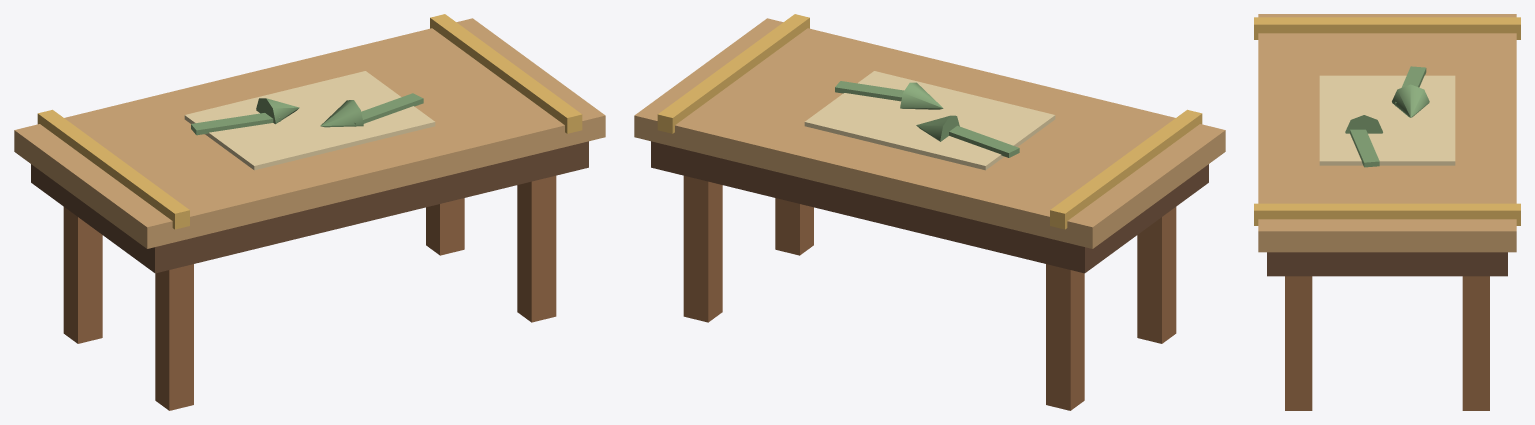
File: exchange-table.glb
3 renders of one model, left to right at view 1: azimuth 30°, elevation 25°; view 2: azimuth 150°, elevation 25°; view 3: azimuth 270°, elevation 25°, orthographic. The views are drawn at different scales.
Parts seen in each view (by area): view 1: exchange-table_woodLight, exchange-table_wood, exchange-table_woodDark, exchange-table_canvas, exchange-table_gold, exchange-table_sage; view 2: exchange-table_woodLight, exchange-table_wood, exchange-table_woodDark, exchange-table_canvas, exchange-table_gold, exchange-table_sage; view 3: exchange-table_woodLight, exchange-table_canvas, exchange-table_gold, exchange-table_wood, exchange-table_woodDark, exchange-table_sage.
Boxes of the visible parts, x1=… form: exchange-table_woodLight: x1=14, y1=18, x2=605, y2=248; exchange-table_wood: x1=63, y1=175, x2=556, y2=410; exchange-table_woodDark: x1=31, y1=141, x2=588, y2=273; exchange-table_canvas: x1=184, y1=71, x2=435, y2=170; exchange-table_gold: x1=37, y1=14, x2=582, y2=229; exchange-table_sage: x1=191, y1=93, x2=423, y2=135; exchange-table_woodLight: x1=634, y1=18, x2=1225, y2=248; exchange-table_wood: x1=683, y1=175, x2=1176, y2=410; exchange-table_woodDark: x1=651, y1=141, x2=1208, y2=273; exchange-table_canvas: x1=804, y1=71, x2=1055, y2=170; exchange-table_gold: x1=657, y1=14, x2=1202, y2=229; exchange-table_sage: x1=835, y1=81, x2=1019, y2=157; exchange-table_woodLight: x1=1258, y1=14, x2=1516, y2=252; exchange-table_canvas: x1=1319, y1=75, x2=1455, y2=165; exchange-table_gold: x1=1254, y1=17, x2=1520, y2=225; exchange-table_wood: x1=1285, y1=276, x2=1489, y2=410; exchange-table_woodDark: x1=1267, y1=252, x2=1507, y2=276; exchange-table_sage: x1=1345, y1=66, x2=1429, y2=167.
Bounding box in the file's own units: 2.43 × 1.14 × 1.26.
